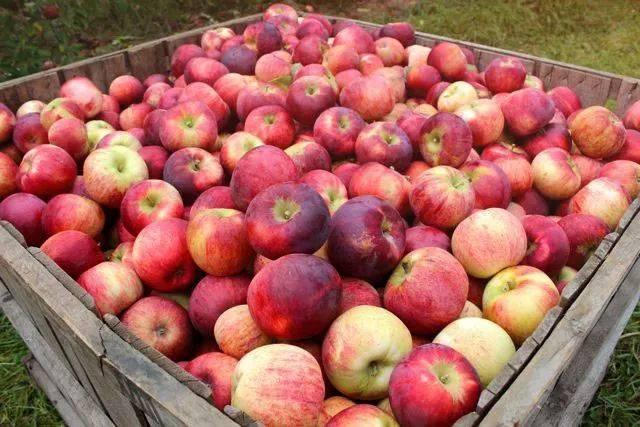apple: (244, 253, 341, 344), (321, 304, 414, 397), (231, 343, 329, 427), (387, 343, 481, 426), (385, 247, 469, 335), (246, 183, 330, 262), (479, 266, 559, 348), (330, 195, 405, 279), (433, 314, 516, 384), (453, 205, 529, 278), (118, 295, 192, 361), (133, 219, 199, 290), (185, 205, 250, 276), (231, 144, 300, 209), (81, 144, 147, 206), (409, 163, 473, 226), (76, 259, 139, 318), (565, 176, 631, 231), (156, 100, 220, 155), (122, 179, 185, 234), (565, 104, 626, 160), (16, 145, 78, 198), (38, 230, 105, 278), (416, 110, 472, 167), (352, 121, 412, 172), (162, 150, 225, 198), (500, 87, 556, 136), (312, 108, 366, 156), (285, 77, 336, 127), (533, 147, 581, 198), (243, 105, 295, 150), (11, 113, 51, 154), (435, 81, 477, 114)
